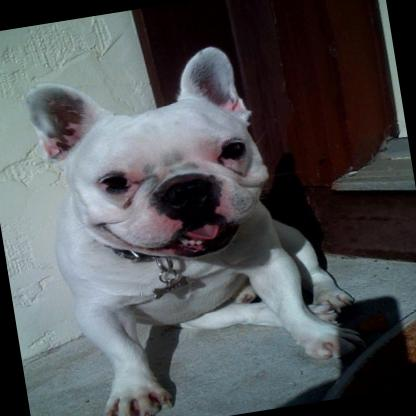French_bulldog: (15, 28, 365, 416)
